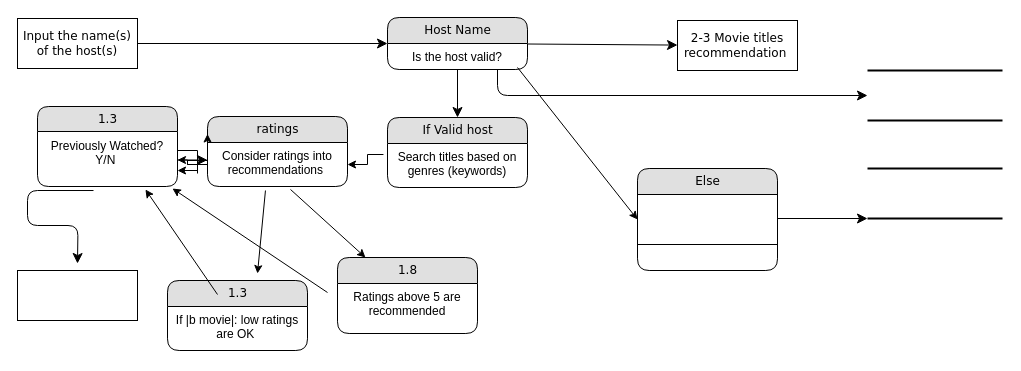
Image size: 1021x371. Some labels were removed from this diagram. Each missing label, with the centre of its shape:
"Talk to a host if you're interested in hosting": (x=707, y=219)
bbblist: (x=934, y=193)
If watched: Y skip to next suggestion: (x=77, y=295)
Movielens: (x=934, y=95)
